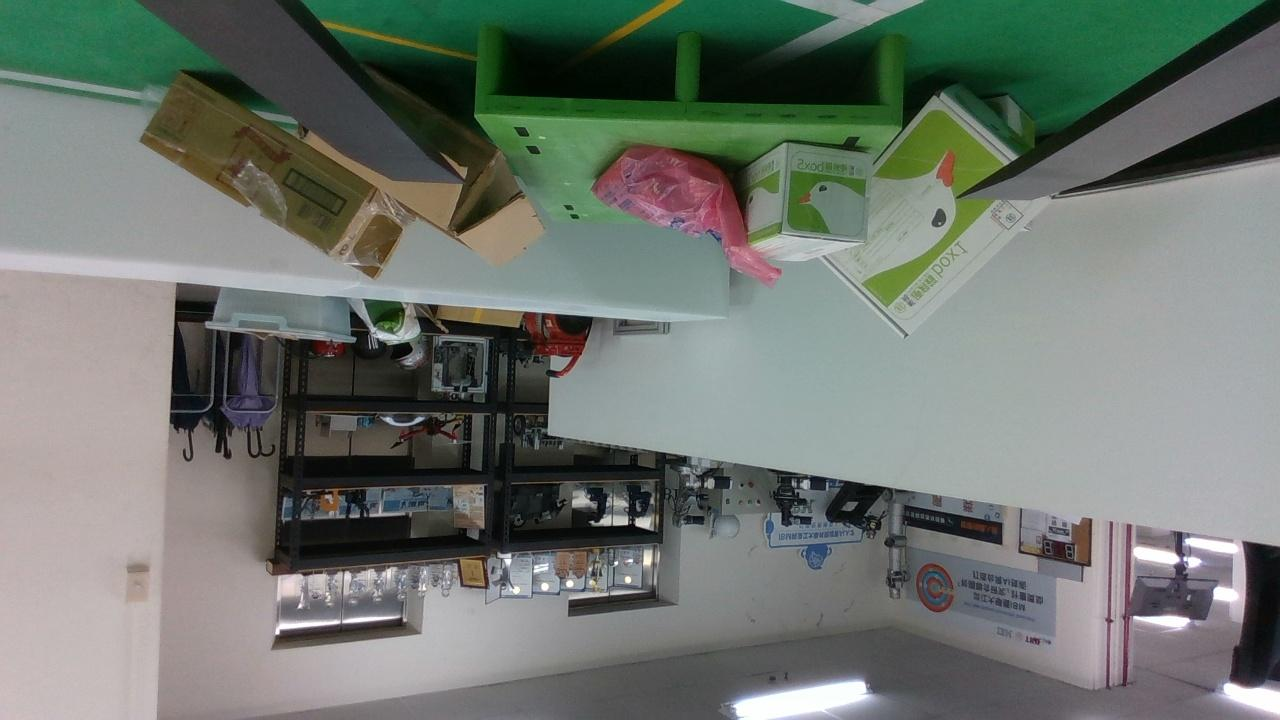Pallet: (476, 28, 907, 126)
